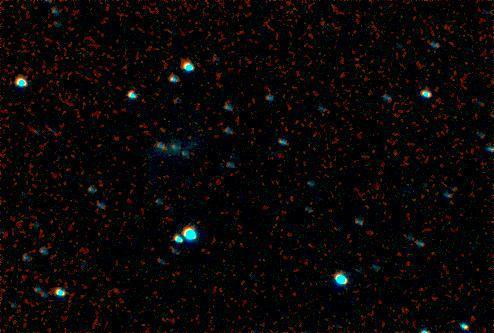star: (149, 134, 179, 164)
